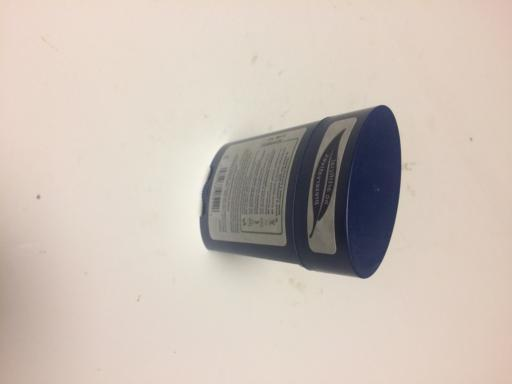trash: (198, 106, 402, 283)
